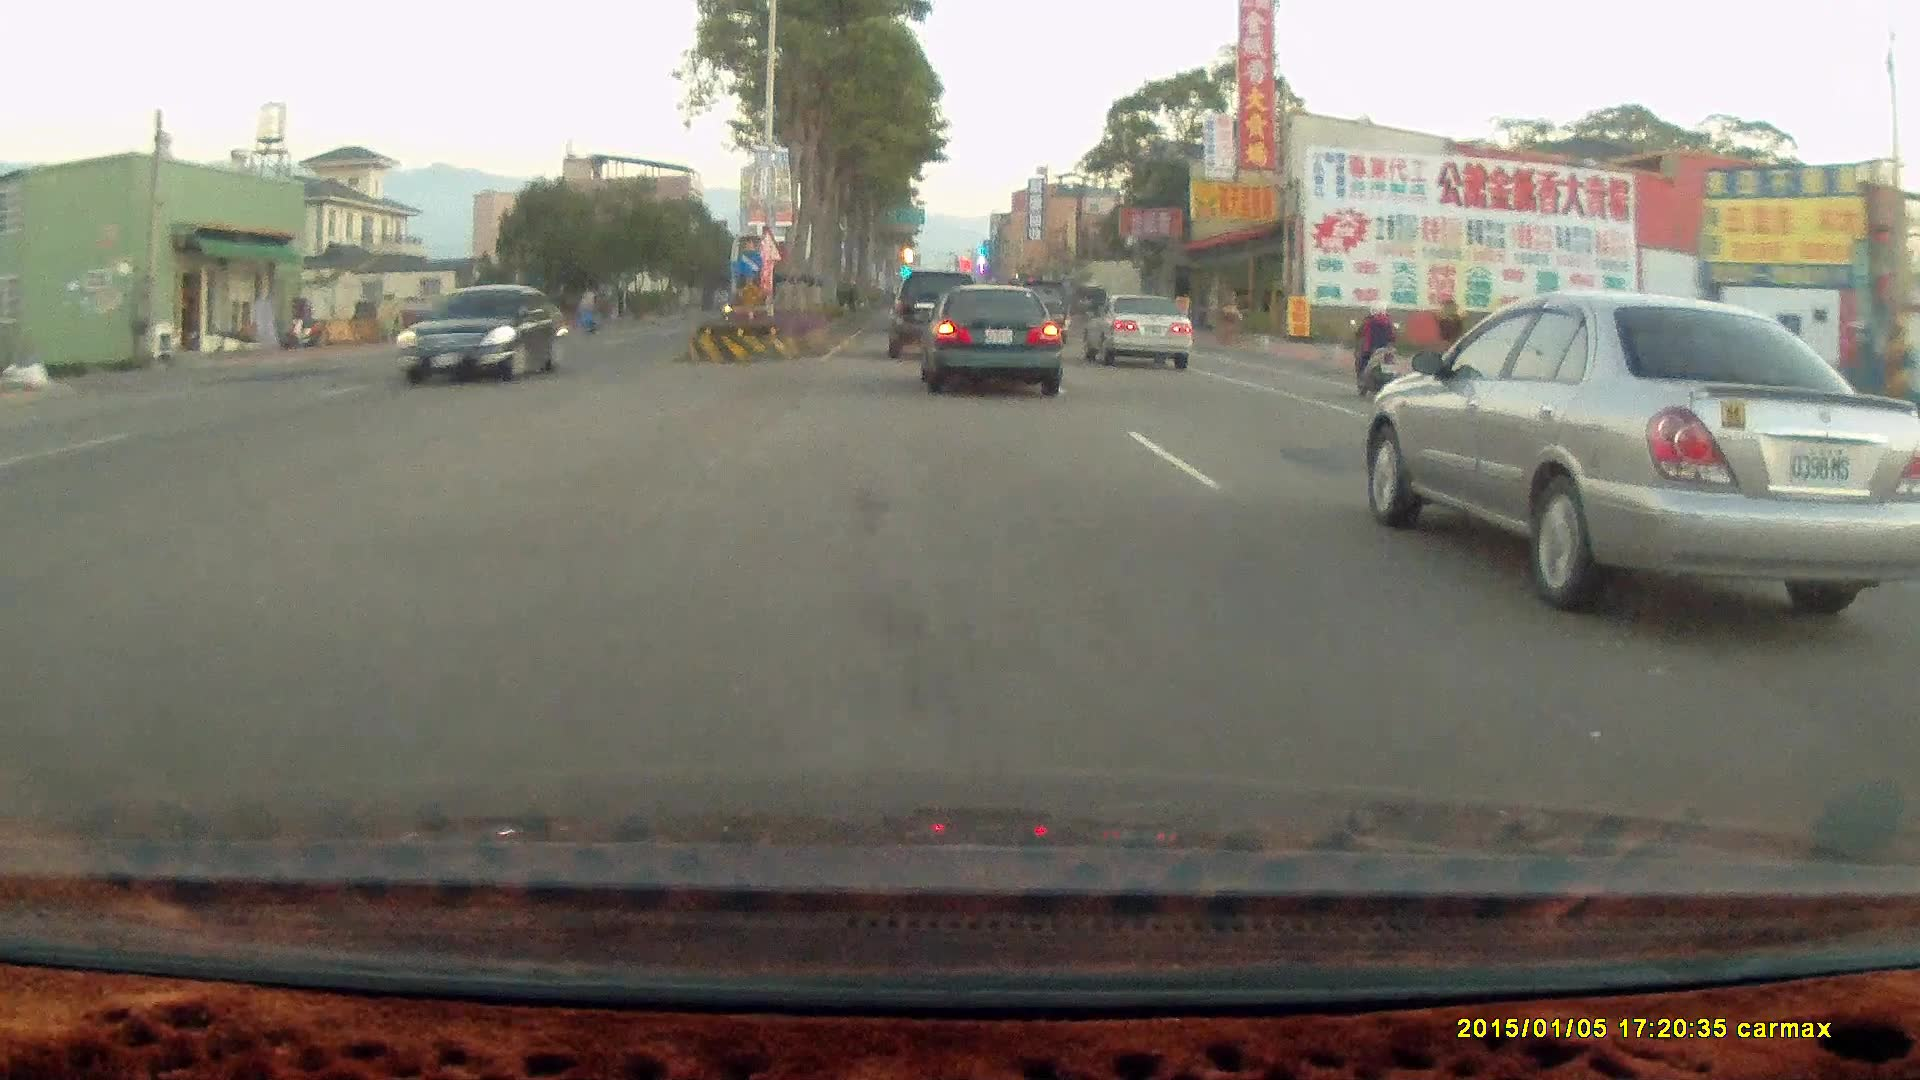rider: (1345, 292, 1410, 411), (1349, 294, 1400, 397), (575, 289, 604, 335)
vehicle: (1363, 288, 1920, 609), (394, 286, 567, 390), (392, 284, 564, 388), (920, 285, 1065, 401), (914, 287, 1061, 400), (886, 269, 984, 364), (1081, 291, 1191, 370), (1086, 296, 1197, 371), (887, 270, 979, 359), (450, 302, 535, 350)
